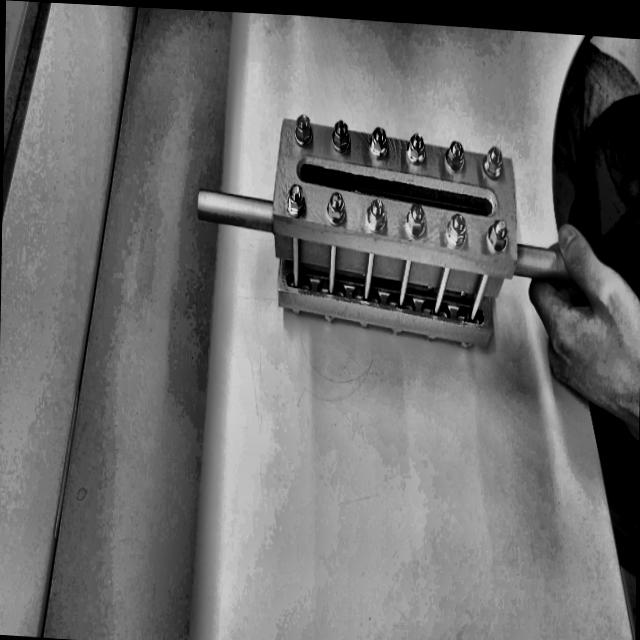ShuiWeiQi_12: (192, 51, 537, 379)
